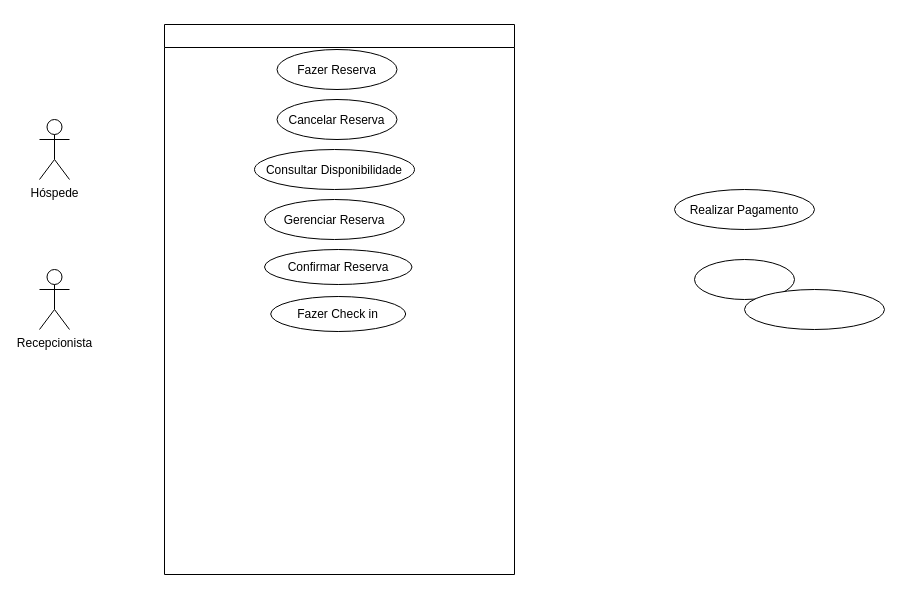
The diagram is 902 pixels wide and 592 high, and some of its shapes have lost their labels. Each missing label, with the box of its shape:
Emitir Comprovante: (744, 288, 884, 330)
Sistema de Pagamento: (694, 258, 794, 300)
Sistema de Reservas de Hotel: (164, 24, 514, 574)
